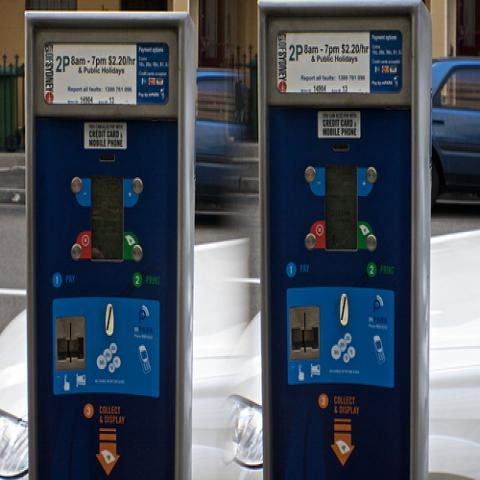car: (430, 61, 480, 214), (197, 72, 255, 191)
